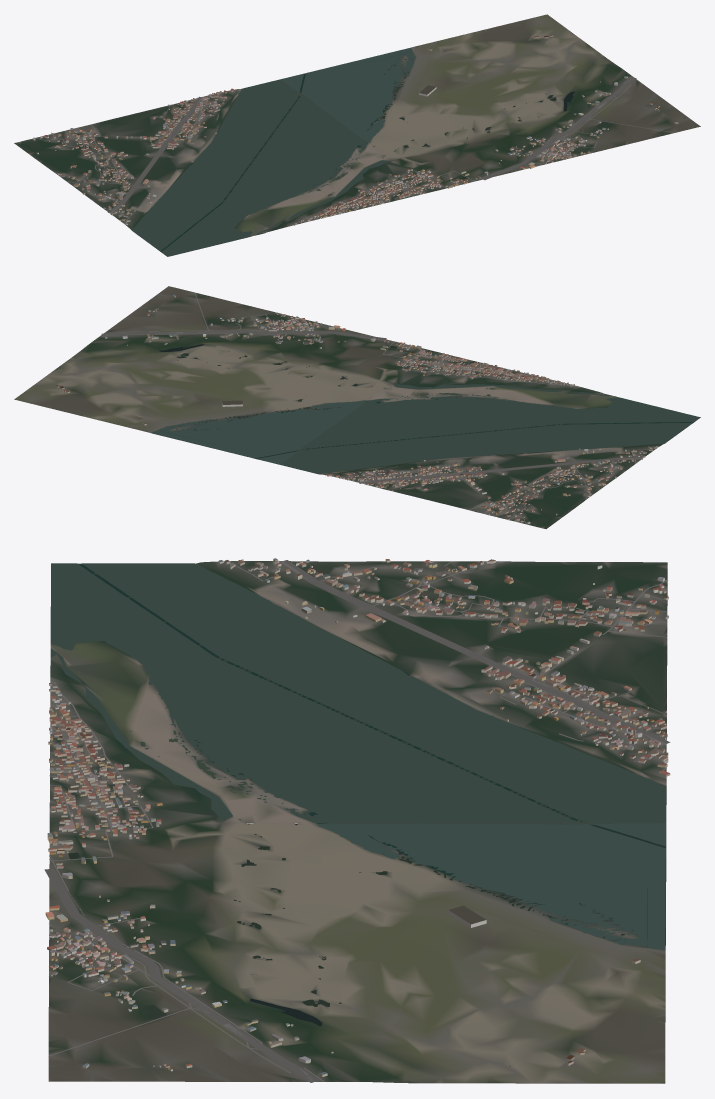
3 views of the same model, one above another, from view 1: azimuth 30°, elevation 25°; view 2: azimuth 150°, elevation 25°; view 3: azimuth 270°, elevation 25° (orthographic). The views are drawn at different scales.
Parts seen in each view (by area): view 1: ground, water, buildings, roads; view 2: ground, water, buildings, roads; view 3: ground, water, buildings, roads.
Boxes of the visible parts, left/top/right/bottom form: ground: left=14, top=14, right=700, bottom=256; water: left=132, top=48, right=610, bottom=256; buildings: left=33, top=35, right=678, bottom=225; roads: left=32, top=76, right=674, bottom=225; ground: left=14, top=286, right=700, bottom=528; water: left=152, top=320, right=699, bottom=473; buildings: left=56, top=294, right=658, bottom=524; roads: left=100, top=292, right=656, bottom=524; ground: left=48, top=561, right=667, bottom=1083; water: left=51, top=563, right=666, bottom=1066; buildings: left=45, top=558, right=670, bottom=1076; roads: left=44, top=560, right=670, bottom=1082.
Size of the model in its own units: 2810 by 24.36 by 1424.
